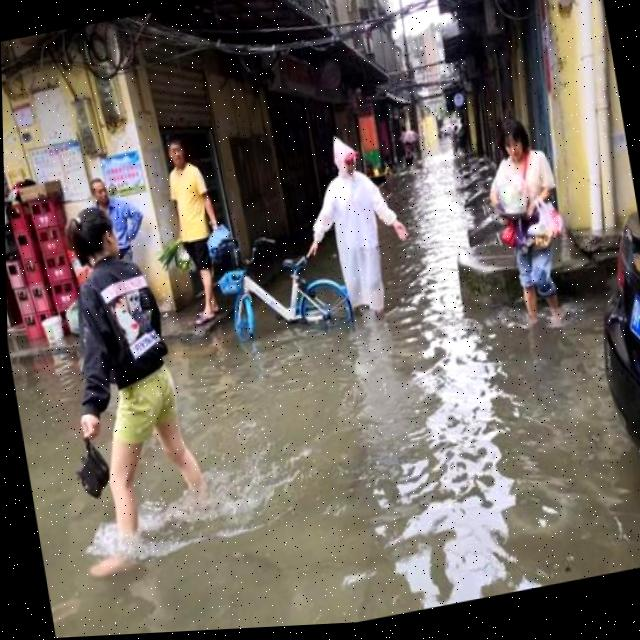civilian: (45, 189, 218, 579), (473, 97, 582, 336), (311, 129, 409, 330), (154, 132, 234, 329), (78, 167, 158, 281)
